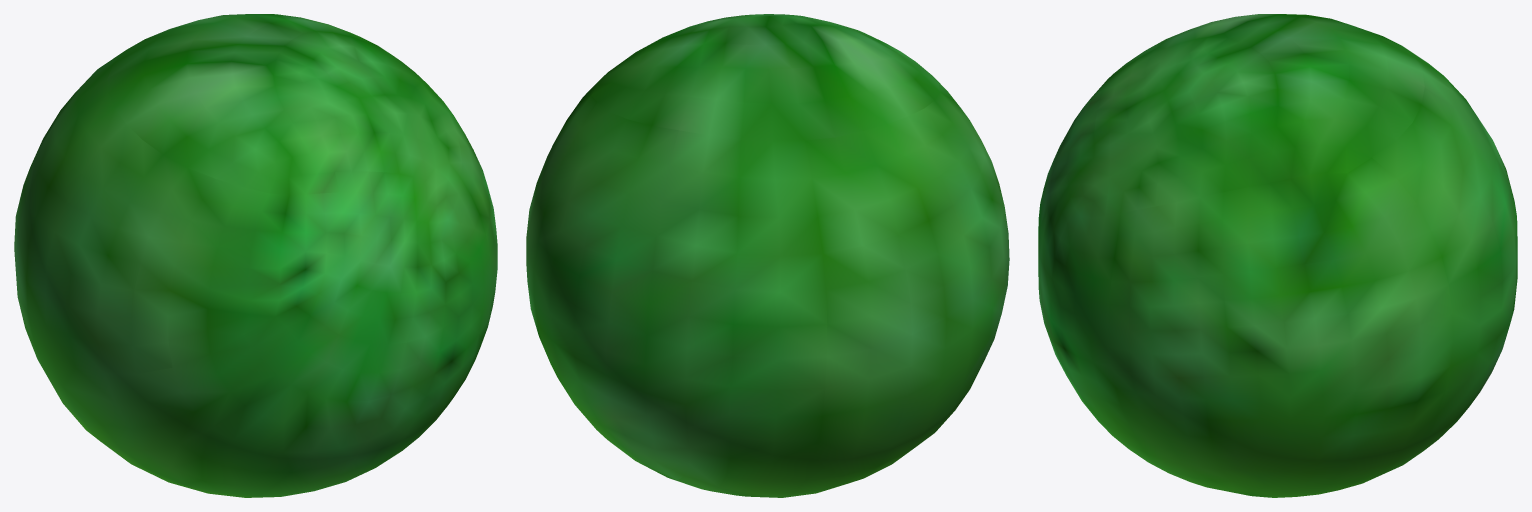
File: 09-6493507-vertex.glb
The picture shows the model from 3 angles, left to right: view 1: azimuth 30°, elevation 25°; view 2: azimuth 150°, elevation 25°; view 3: azimuth 270°, elevation 25°; orthographic projection.
Parts seen in each view (by area): view 1: Retopo_neural_node_46f89ccf-59b7-49f2-ab11-c570776b419c; view 2: Retopo_neural_node_46f89ccf-59b7-49f2-ab11-c570776b419c; view 3: Retopo_neural_node_46f89ccf-59b7-49f2-ab11-c570776b419c.
Boxes of the visible parts, x1,y1,x2,y2 form: Retopo_neural_node_46f89ccf-59b7-49f2-ab11-c570776b419c: (14, 14, 497, 497); Retopo_neural_node_46f89ccf-59b7-49f2-ab11-c570776b419c: (526, 14, 1009, 497); Retopo_neural_node_46f89ccf-59b7-49f2-ab11-c570776b419c: (1038, 14, 1517, 497).
Size of the model in its own units: 0.4863 by 0.483 by 0.4856.
